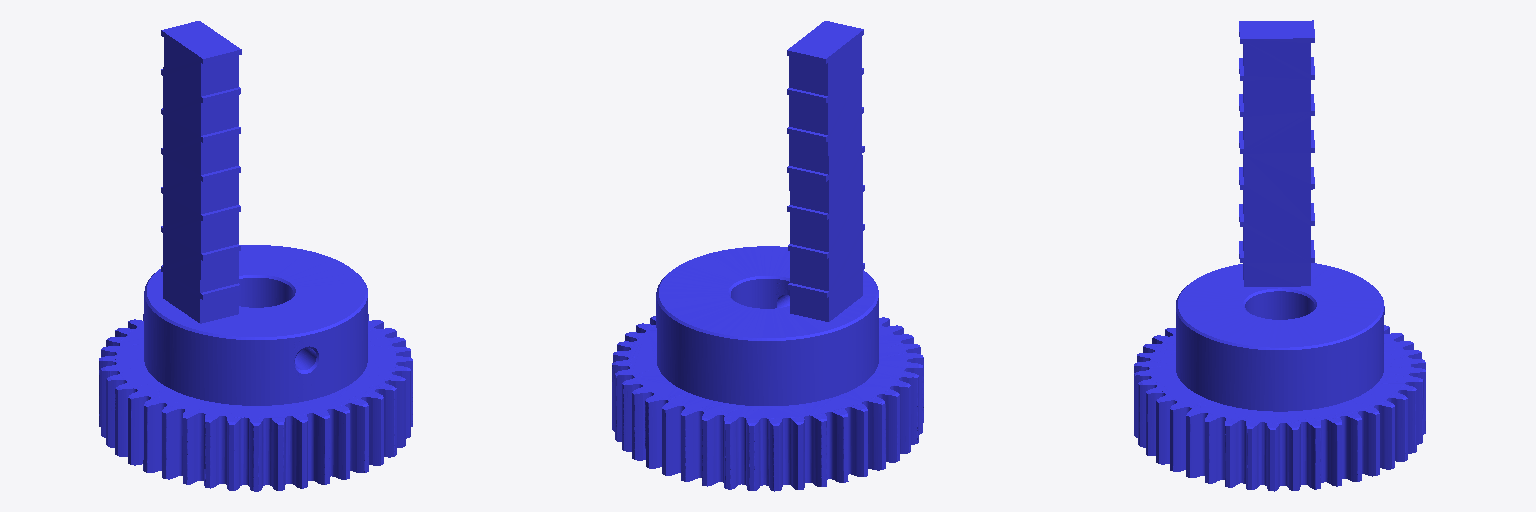
robot.urdf — industreal_gear_medium:
<?xml version="1.0"?>
<robot name="industreal_gear_medium">
    <link name="industreal_gear_medium">
        <visual>
            <geometry>
                <mesh filename="../mesh/TVB_mesh/manifeel_gear_medium.obj" scale="0.965 0.965 0.965"/>
            </geometry>
            <!-- <material name="gear_metal">
                <color rgba="0.9 0.9 0.9 1.0"/>
            </material> -->
            <material name="blue">
                <color rgba="0.3 0.3 1.0 1.0"/>
            </material>
        </visual>
        <collision>
            <geometry>
                <mesh filename="../mesh/TVB_mesh/manifeel_gear_medium.obj" scale="0.965 0.965 0.965"/>
            </geometry>
            <sdf resolution="32"/>
        </collision>
    </link>
</robot>

--- Facts derived from the render (not from the file) ---
The picture shows the robot from 3 angles, left to right: view 1: azimuth 30°, elevation 25°; view 2: azimuth 150°, elevation 25°; view 3: azimuth 270°, elevation 25°; orthographic projection.
Robot: industreal_gear_medium — 1 links, 0 joints (none); root link industreal_gear_medium; default pose: all joints at 0.
Links seen in each view (by area): view 1: industreal_gear_medium; view 2: industreal_gear_medium; view 3: industreal_gear_medium.
Boxes of the visible links, x1,y1,x2,y2 form: industreal_gear_medium: (99,21,412,491); industreal_gear_medium: (612,21,923,491); industreal_gear_medium: (1134,20,1425,491).
Bounding box of the posed robot: 0.0405 × 0.0405 × 0.0574 m (x, y, z).
Meshes: 1 distinct files referenced, 1 mesh visuals loaded (1 OBJ).
